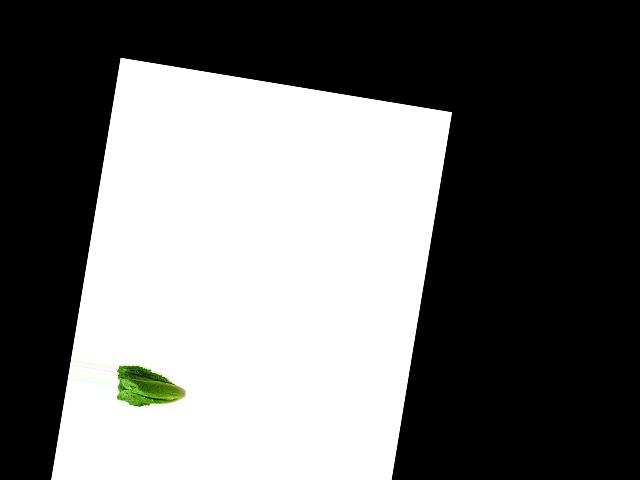lettuce: (111, 359, 190, 416)
